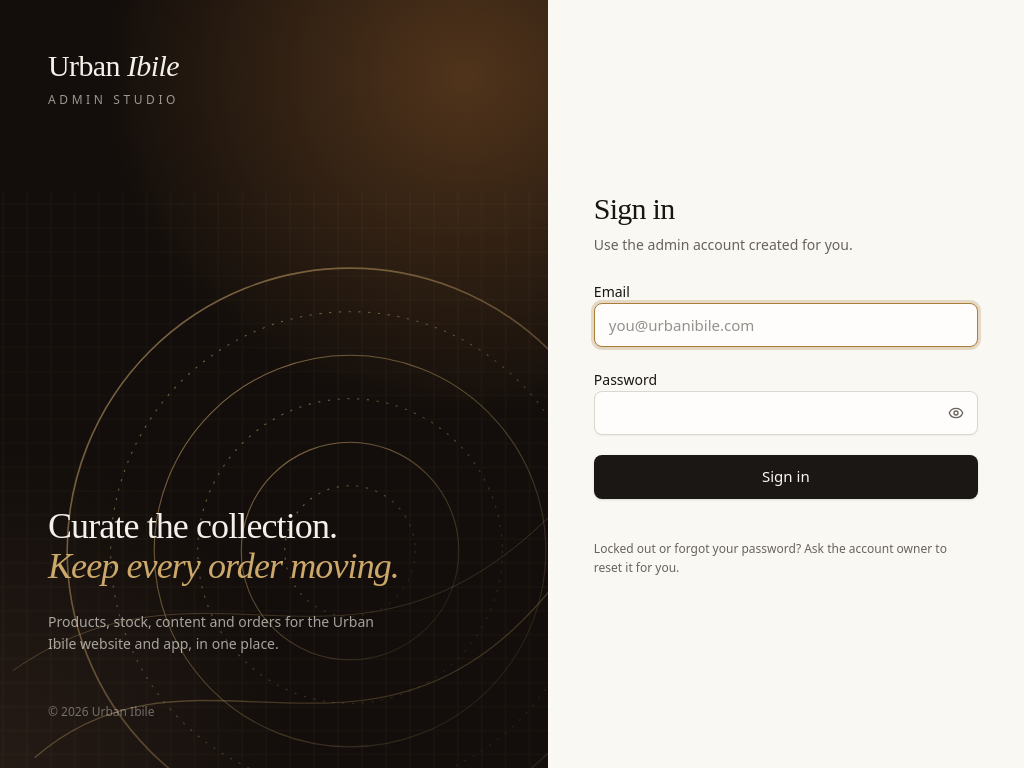
Test: login page › returns the admin to the page they originally requested
This screenshot has width=1024, height=768.
Expected: the heading "Sign in" is shown, x1=594 y1=192 x2=674 y2=224
Type "boss@example.com" into the field labelled "Email".
click(786, 324); type("boss@example.com")  # box x1=594 y1=302 x2=978 y2=346
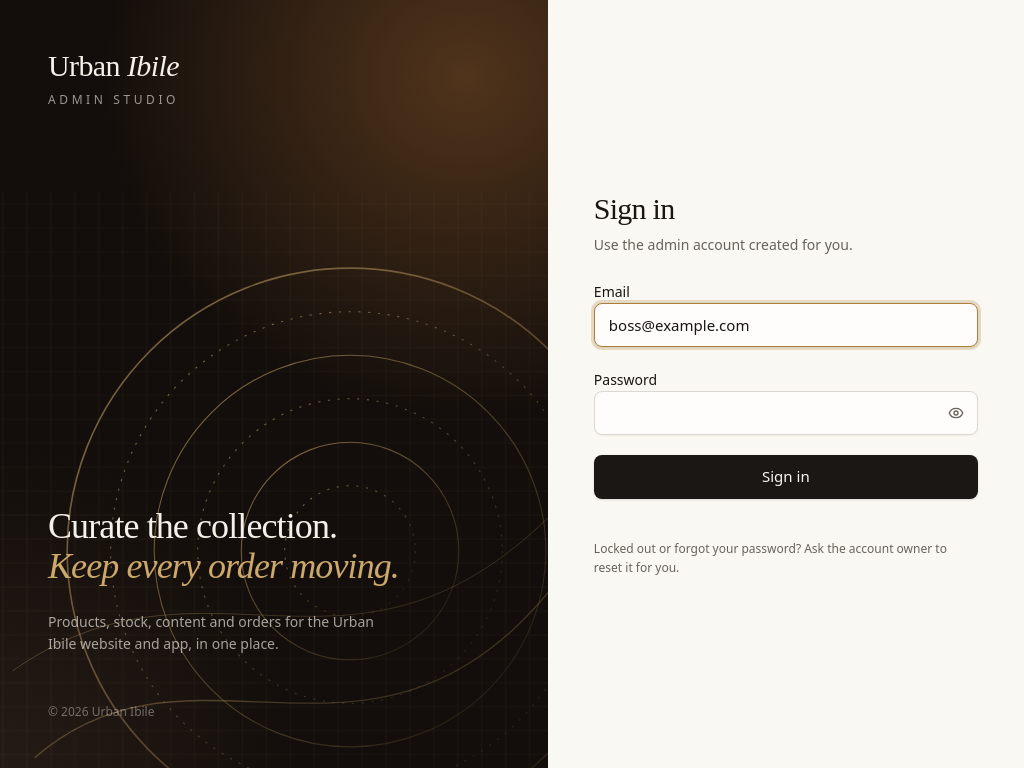
Type "Ankara-Velvet-2026!" into the password field labelled "Password".
click(786, 412); type("Ankara-Velvet-2026!")  # box x1=594 y1=390 x2=978 y2=434
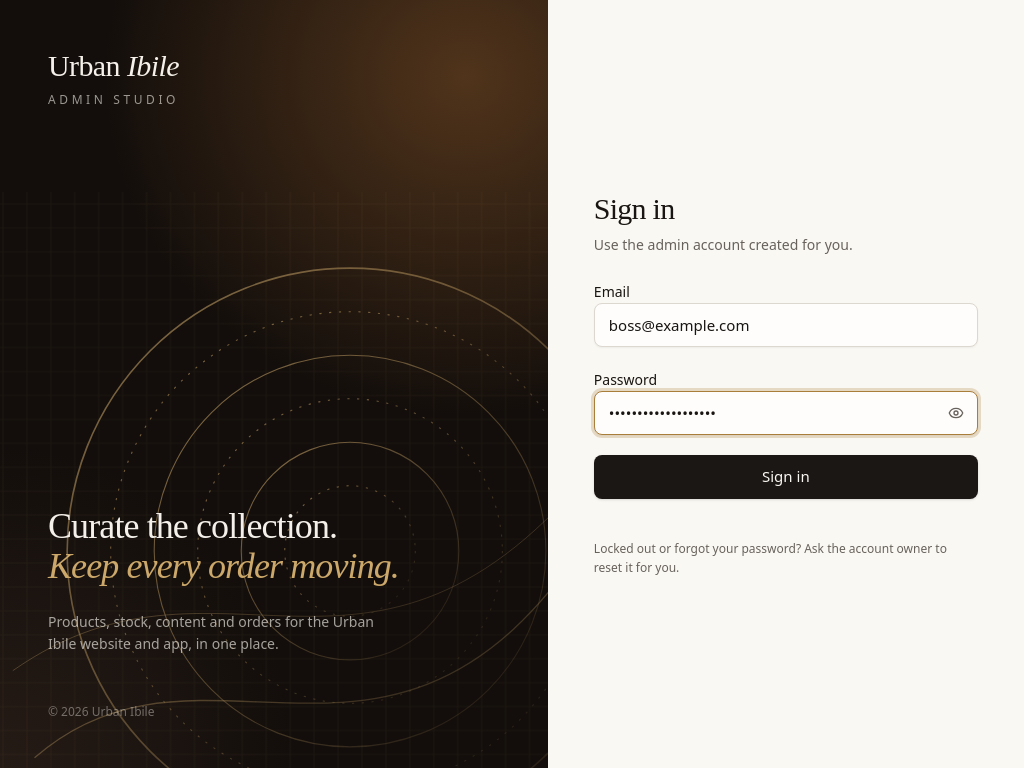
Click the button "Sign in".
click(786, 476)  # box x1=594 y1=454 x2=978 y2=498
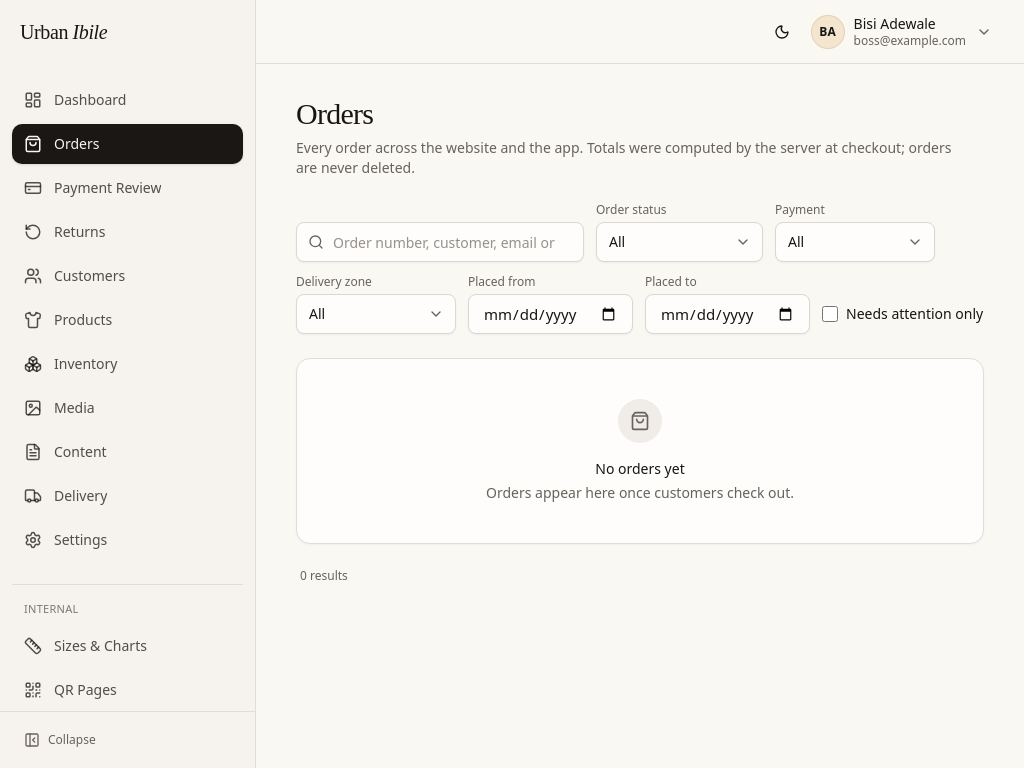
Result: the heading "Orders" is shown at x1=296 y1=97 x2=373 y2=130
